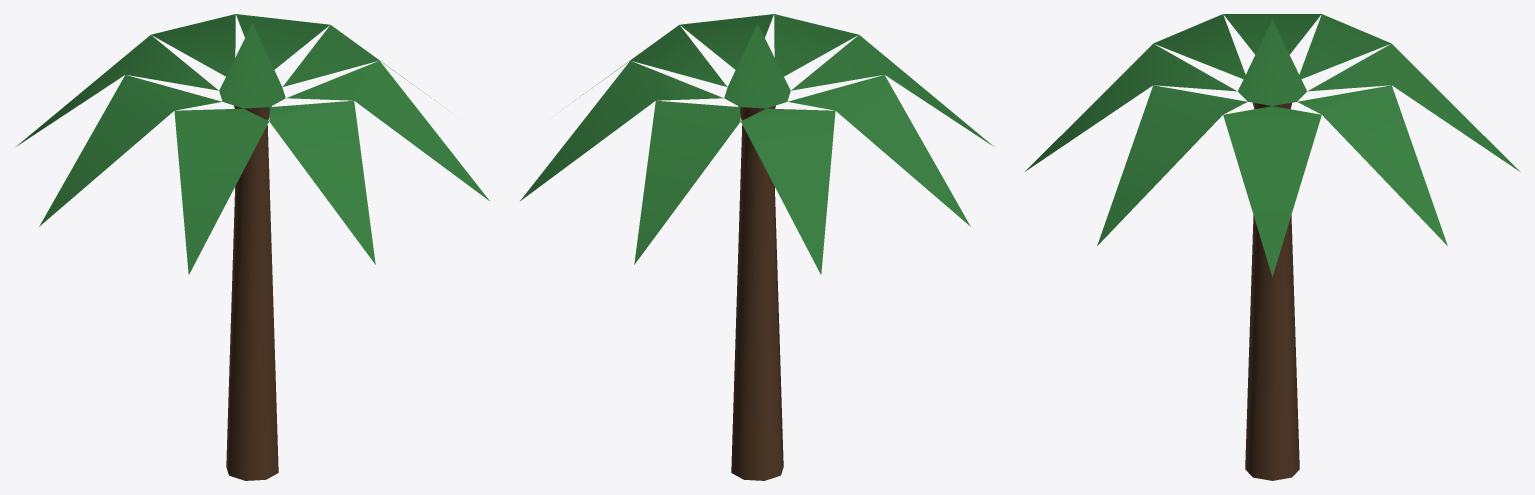
The model's file is palm.gltf.
3 renders of one model, left to right at view 1: azimuth 30°, elevation 25°; view 2: azimuth 150°, elevation 25°; view 3: azimuth 270°, elevation 25°, orthographic.
Visible parts, largest first — view 1: palm; view 2: palm; view 3: palm.
Boxes of the visible parts, x1,y1,x2,y2 form: palm: (16, 14, 489, 480); palm: (520, 14, 993, 480); palm: (1025, 14, 1519, 480).
Size of the model in its own units: 1 by 1 by 1.
